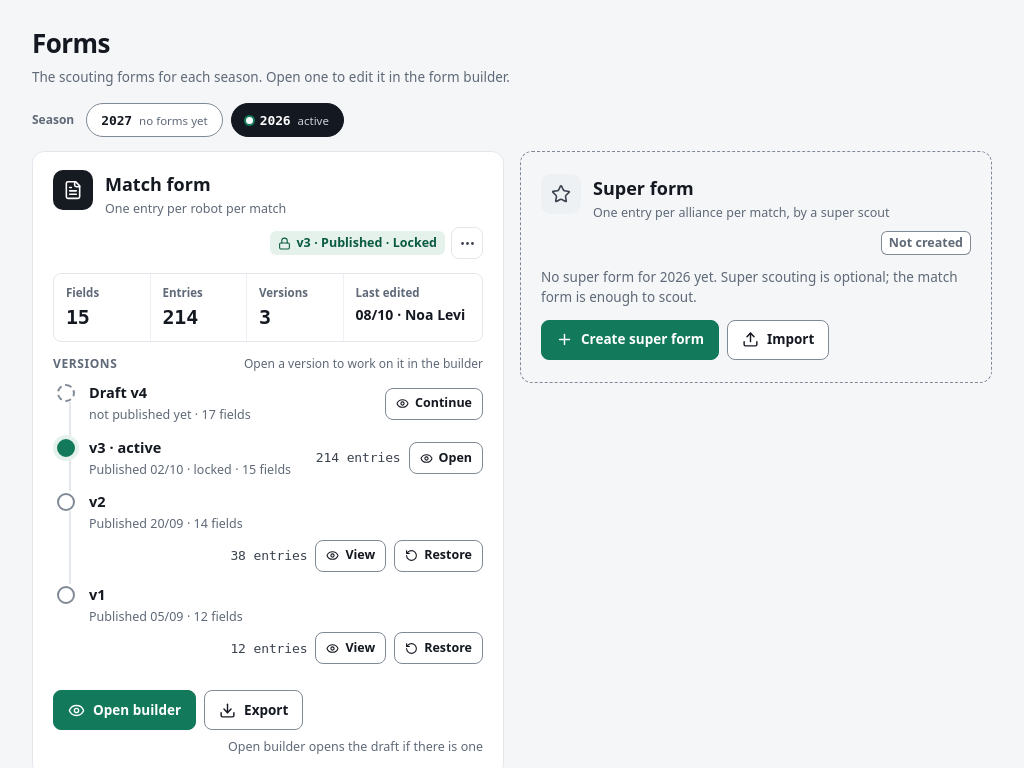
it: the forms list (/admin/forms, task 1.29) › Restore makes an older version active and reads the season again
The width and height of the screenshot is (1024, 768).
Click the button with aria-label "Restore v1".
click(439, 648)  # box 394,632 -> 483,664
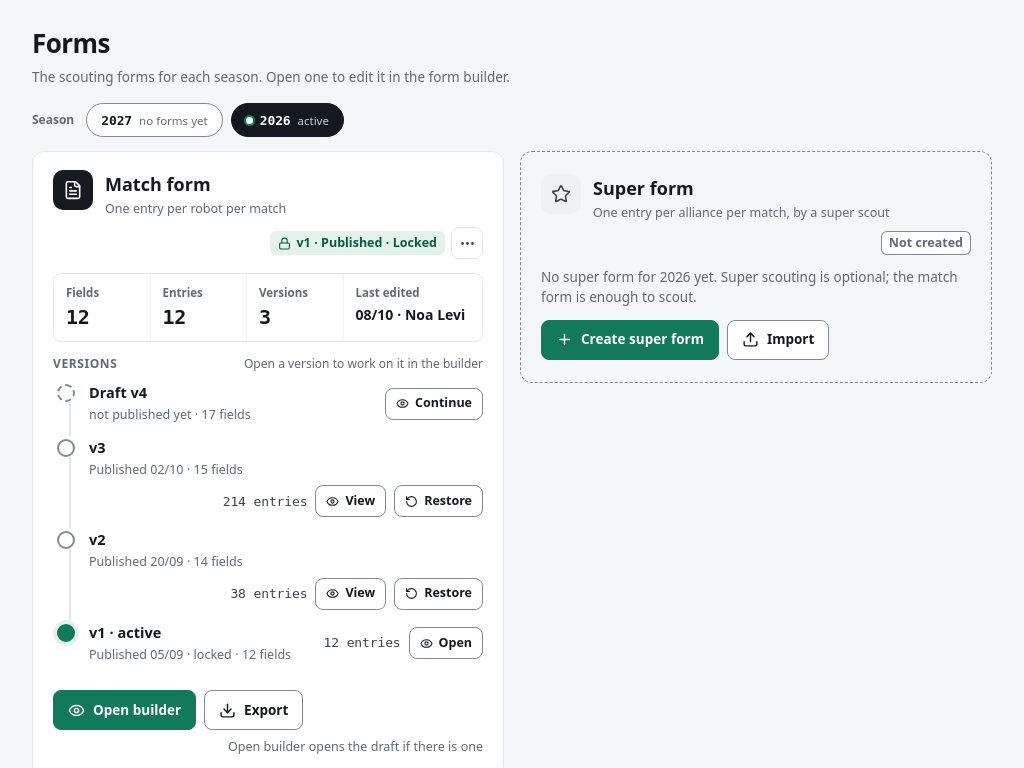
Result: the text "v1 · Published · Locked" is shown at 270,231 -> 445,255
